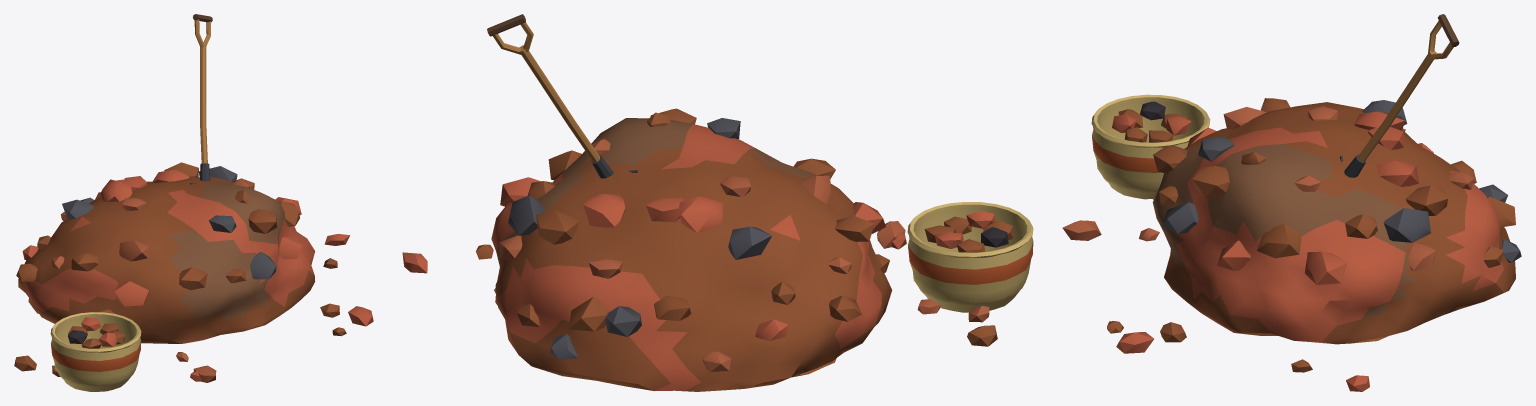
The model's file is deco_ore_pile_rust.fbx.
3 renders of one model, left to right at view 1: azimuth 30°, elevation 25°; view 2: azimuth 150°, elevation 25°; view 3: azimuth 270°, elevation 25°, orthographic. The views are drawn at different scales.
Parts seen in each view (by area): view 1: OrePile_Rust_Heap, OrePile_Rust_Chunks, OrePile_Rust_Basket, OrePile_Rust_Shovel; view 2: OrePile_Rust_Heap, OrePile_Rust_Chunks, OrePile_Rust_Basket, OrePile_Rust_Shovel; view 3: OrePile_Rust_Heap, OrePile_Rust_Chunks, OrePile_Rust_Basket, OrePile_Rust_Shovel.
Part boxes in pixels (x1,y1,x2,y2): OrePile_Rust_Heap: (18, 176, 315, 343); OrePile_Rust_Chunks: (14, 162, 373, 382); OrePile_Rust_Basket: (50, 312, 141, 391); OrePile_Rust_Shovel: (190, 14, 212, 184); OrePile_Rust_Heap: (491, 118, 892, 391); OrePile_Rust_Chunks: (402, 108, 997, 371); OrePile_Rust_Basket: (907, 202, 1033, 312); OrePile_Rust_Shovel: (487, 14, 638, 178); OrePile_Rust_Heap: (1152, 102, 1515, 344); OrePile_Rust_Chunks: (1062, 98, 1521, 391); OrePile_Rust_Basket: (1091, 94, 1210, 199); OrePile_Rust_Shovel: (1339, 14, 1459, 177).
Bounding box in the file's own units: 295 × 172 × 235.
